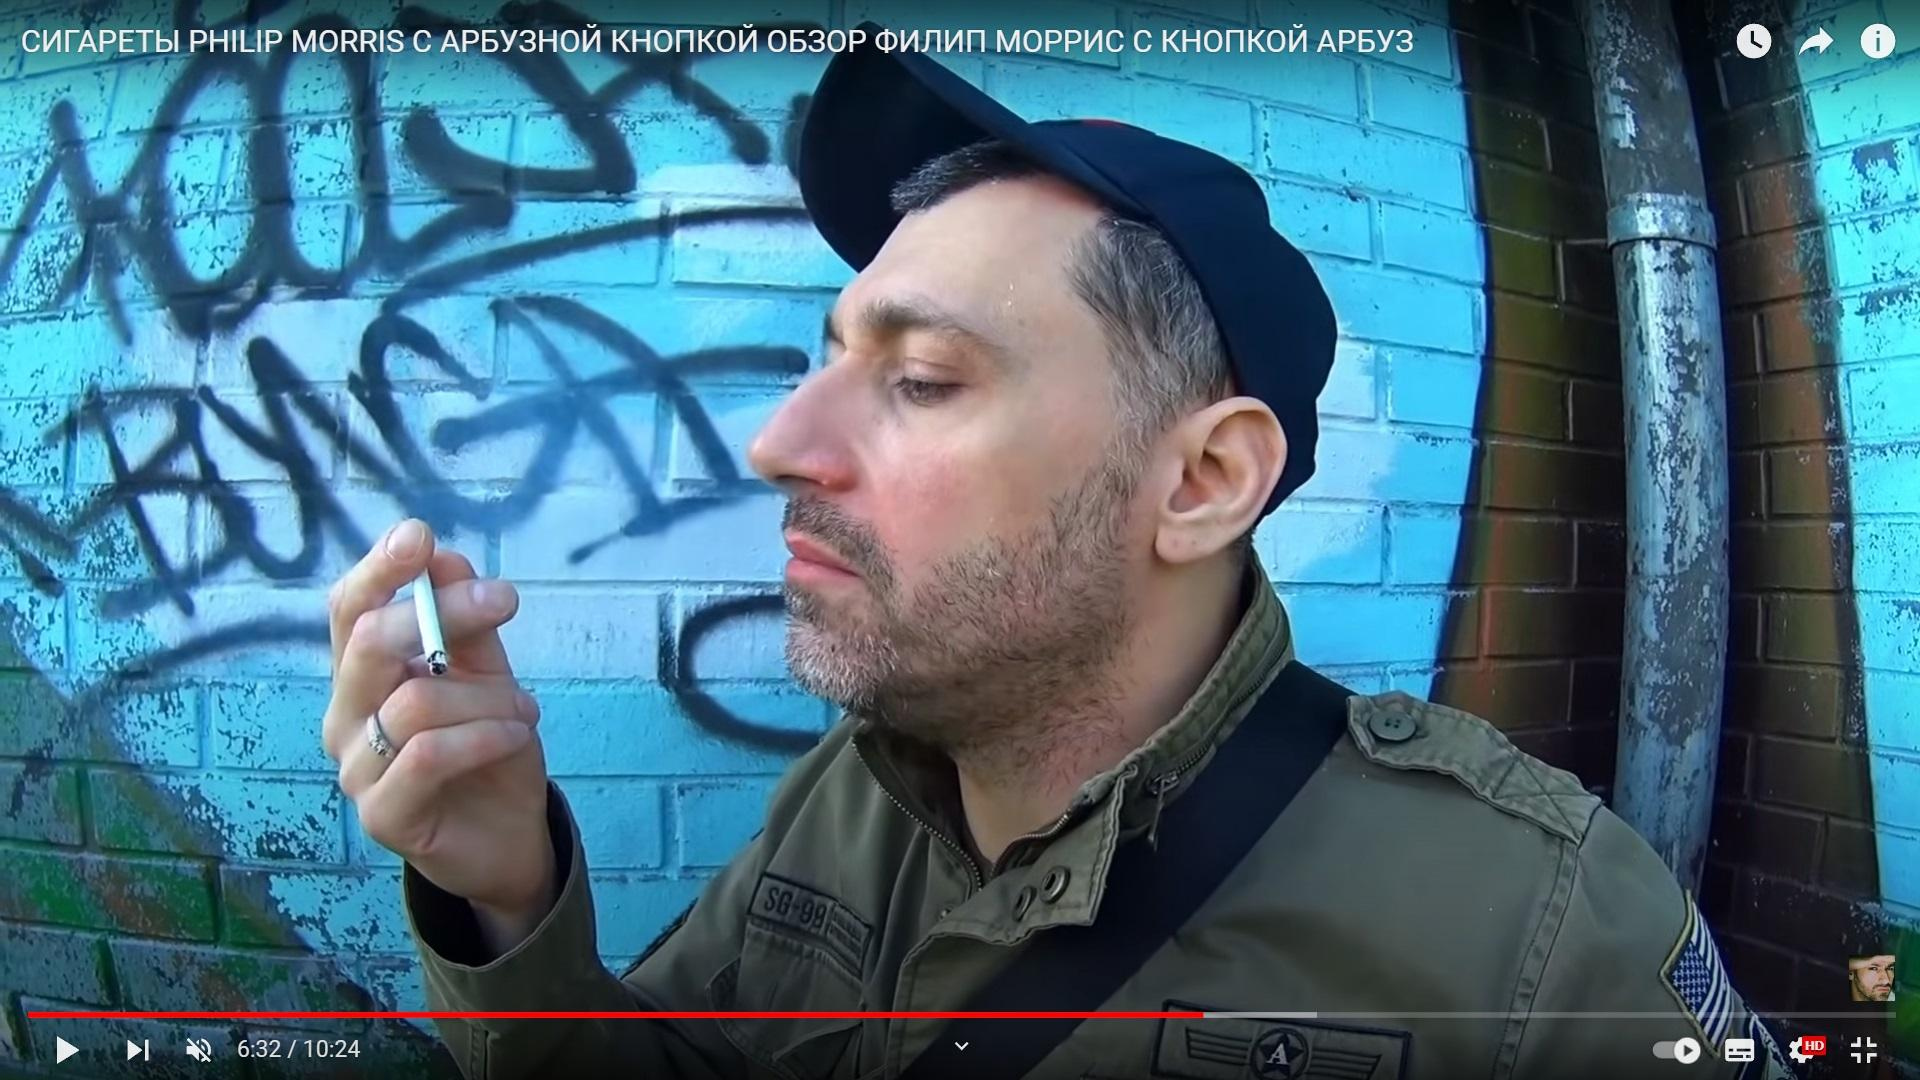cigarette: (411, 566, 448, 676)
